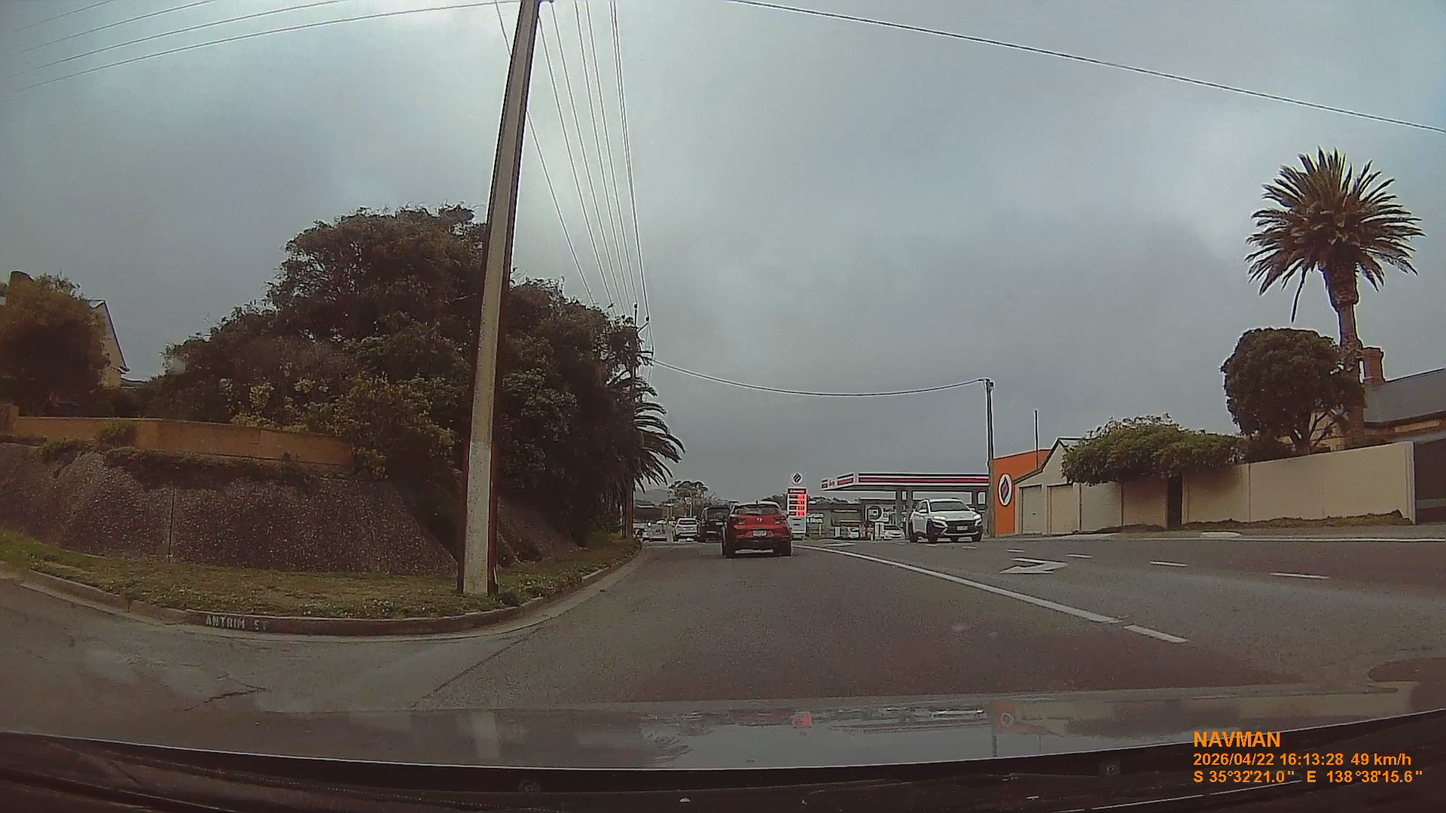fences: (997, 438, 1435, 534)
